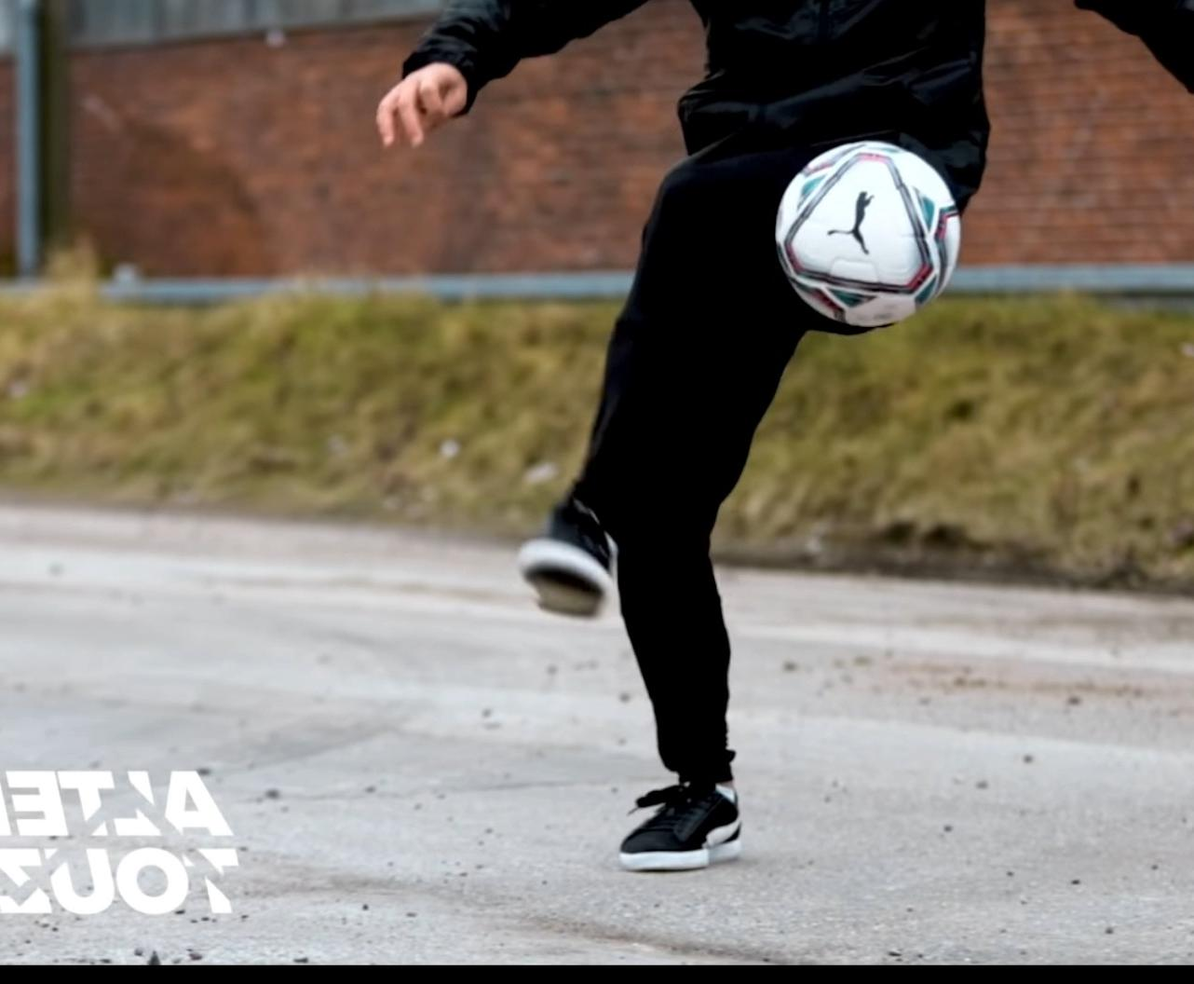ball: (773, 142, 960, 328)
foot: (618, 790, 739, 873), (519, 522, 611, 617)
person: (374, 0, 1194, 874)
